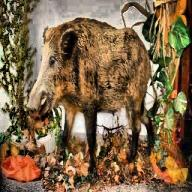boar: (26, 16, 156, 174)
